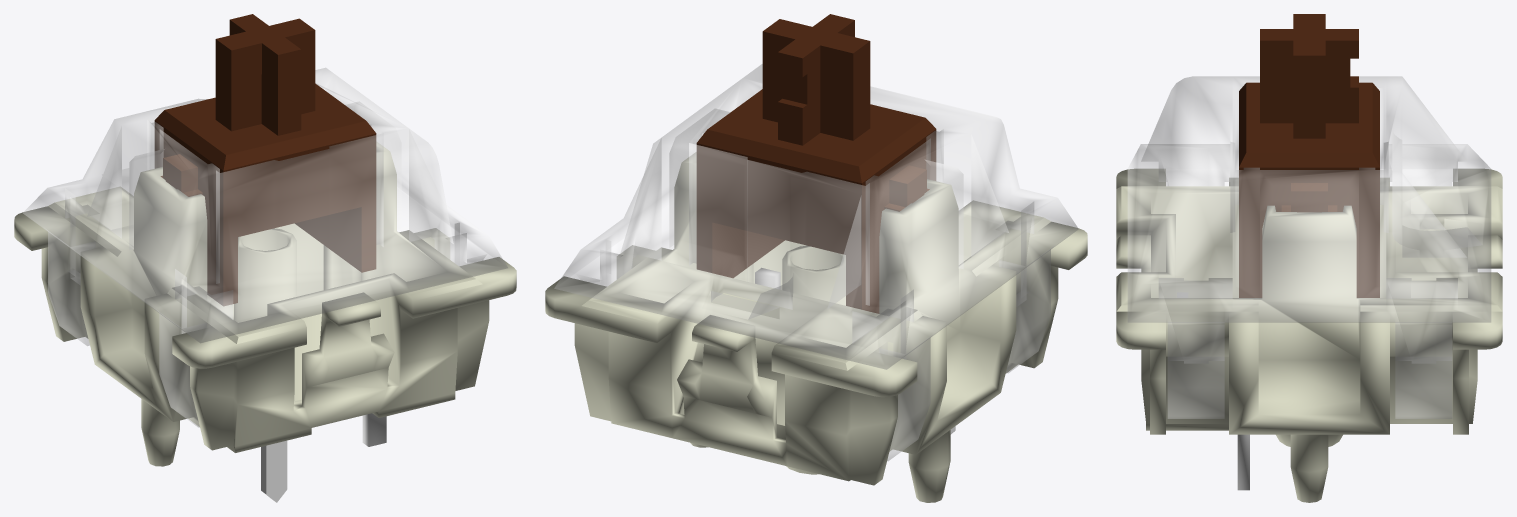
File: keyswitch brown.glb
3 renders of one model, left to right at view 1: azimuth 30°, elevation 25°; view 2: azimuth 150°, elevation 25°; view 3: azimuth 270°, elevation 25°, orthographic. The views are drawn at different scales.
Visible parts, largest first — view 1: Low Bottom PCB LED, Low Top PCB LED, Low Switch PCB LED, Low Wire PCB LED; view 2: Low Bottom PCB LED, Low Top PCB LED, Low Switch PCB LED; view 3: Low Bottom PCB LED, Low Top PCB LED, Low Switch PCB LED, Low Wire PCB LED.
Part boxes in pixels (<box>): Low Bottom PCB LED: <box>14,142,516,466</box>; Low Top PCB LED: <box>23,68,507,427</box>; Low Switch PCB LED: <box>154,14,376,305</box>; Low Wire PCB LED: <box>261,413,386,502</box>; Low Bottom PCB LED: <box>545,152,1087,502</box>; Low Top PCB LED: <box>554,64,1078,460</box>; Low Switch PCB LED: <box>696,14,936,313</box>; Low Bottom PCB LED: <box>1116,168,1502,502</box>; Low Top PCB LED: <box>1128,76,1490,418</box>; Low Switch PCB LED: <box>1239,14,1379,297</box>; Low Wire PCB LED: <box>1177,292,1249,490</box>.
Size of the model in its own units: 1.56 by 1.86 by 1.56.
